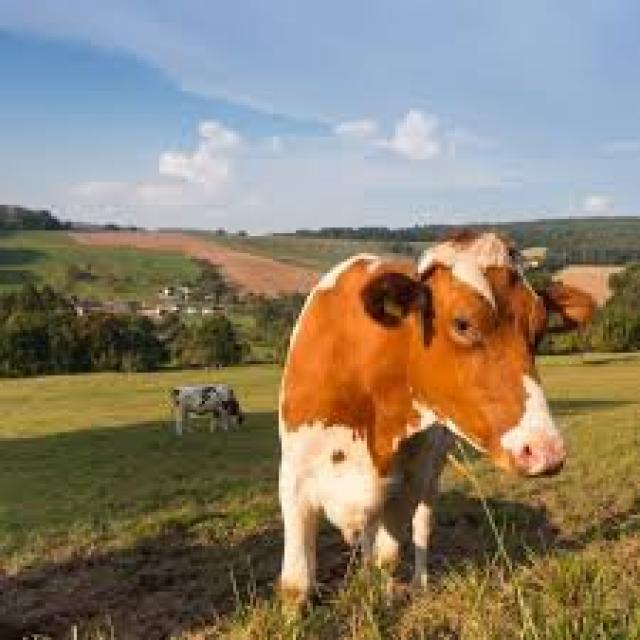cow: (383, 274, 591, 483)
